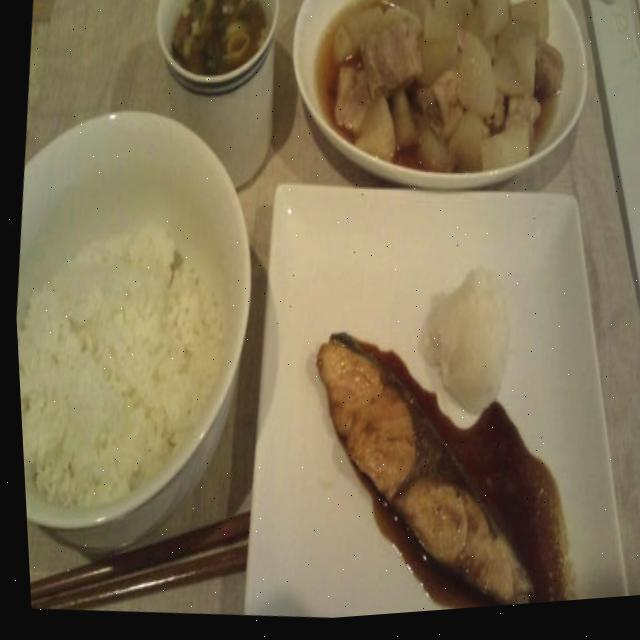汤锅炖物: (152, 0, 283, 107)
熟制海鲜: (265, 276, 586, 625)
米饭主食: (7, 158, 248, 528)
